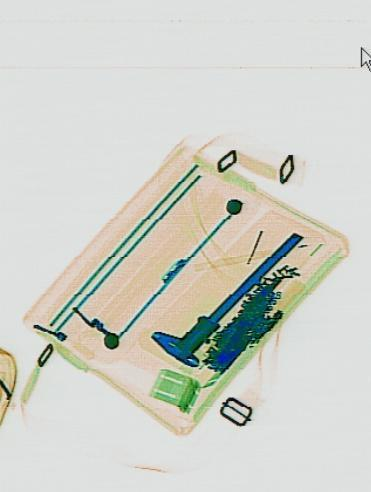plier: (213, 277, 282, 365)
